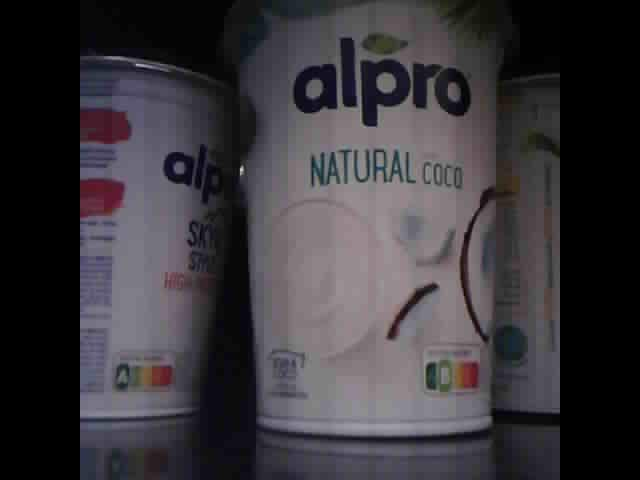alpro: (227, 1, 505, 441), (80, 45, 241, 420), (497, 72, 559, 418)
